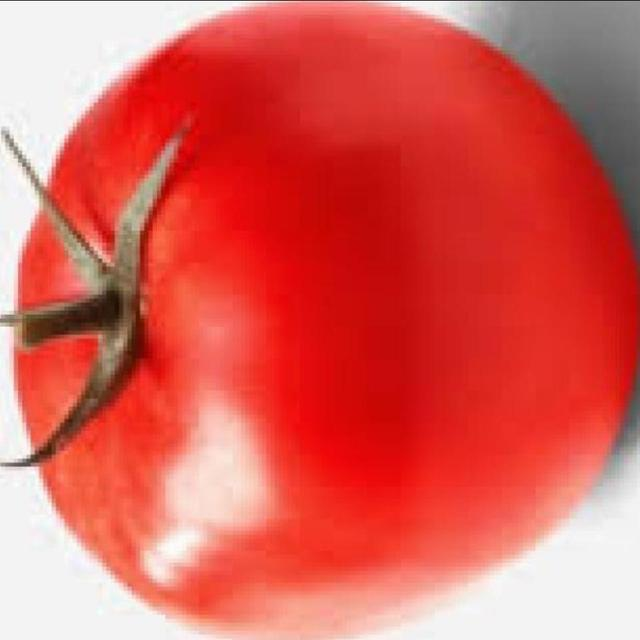Healthy Fruit: (11, 0, 427, 408)
